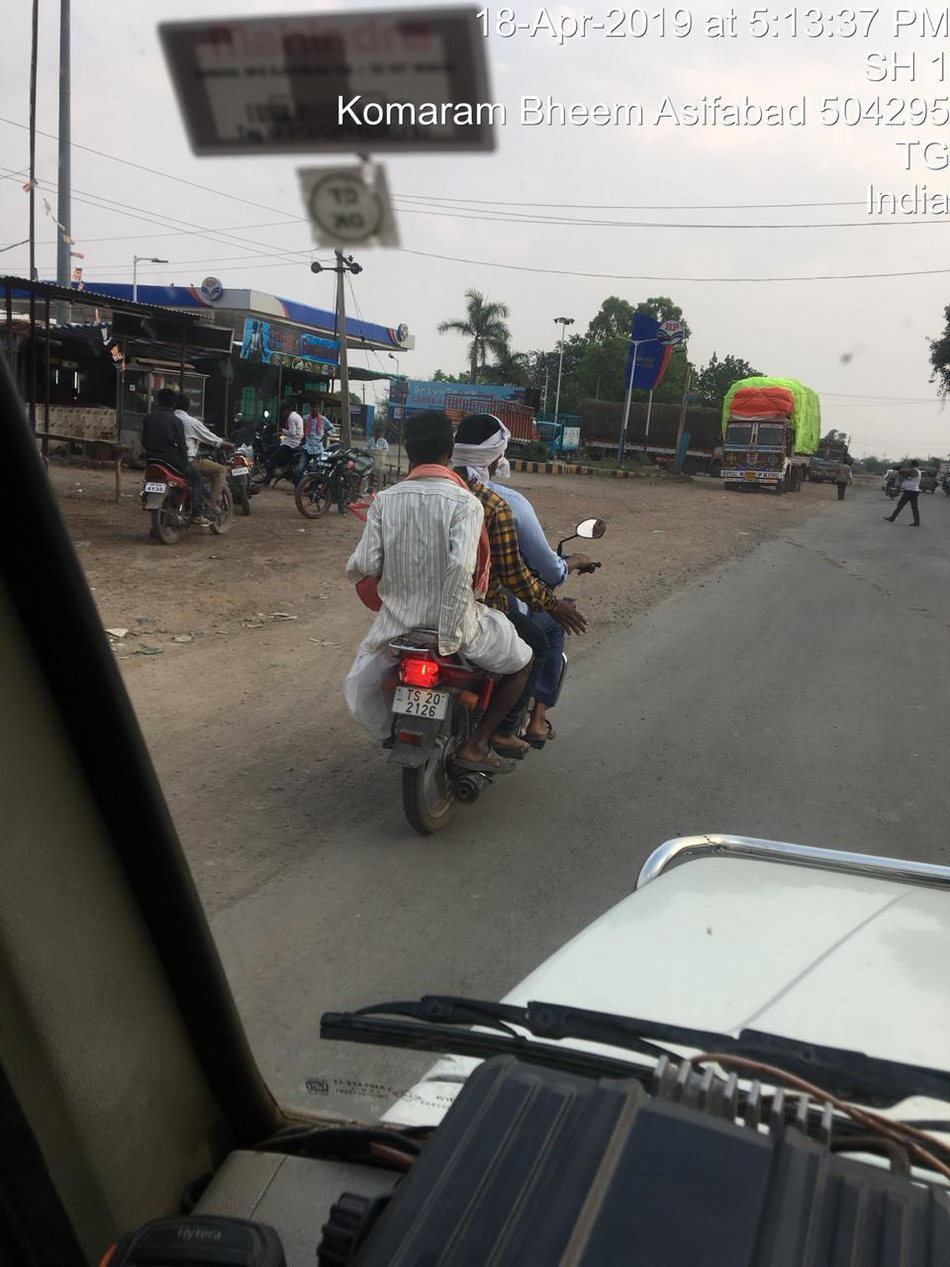plate: (382, 673, 467, 733)
